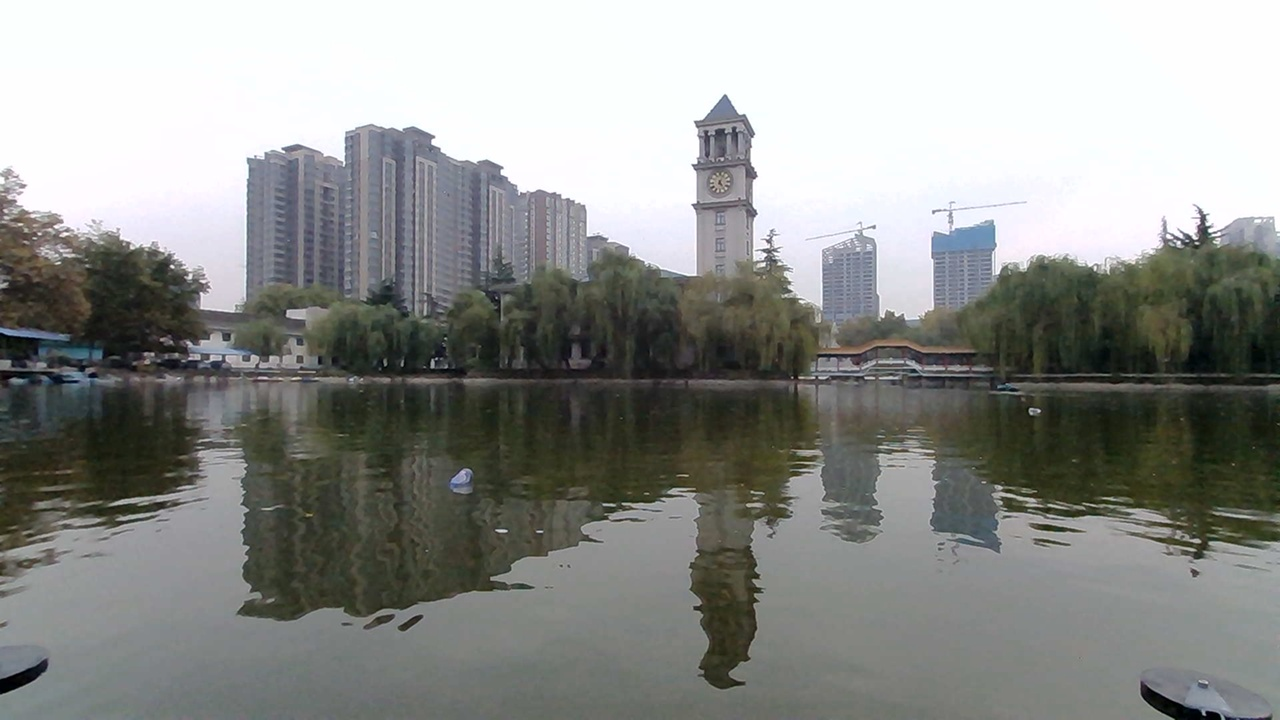bottle: (435, 450, 513, 497), (1003, 395, 1060, 423)
